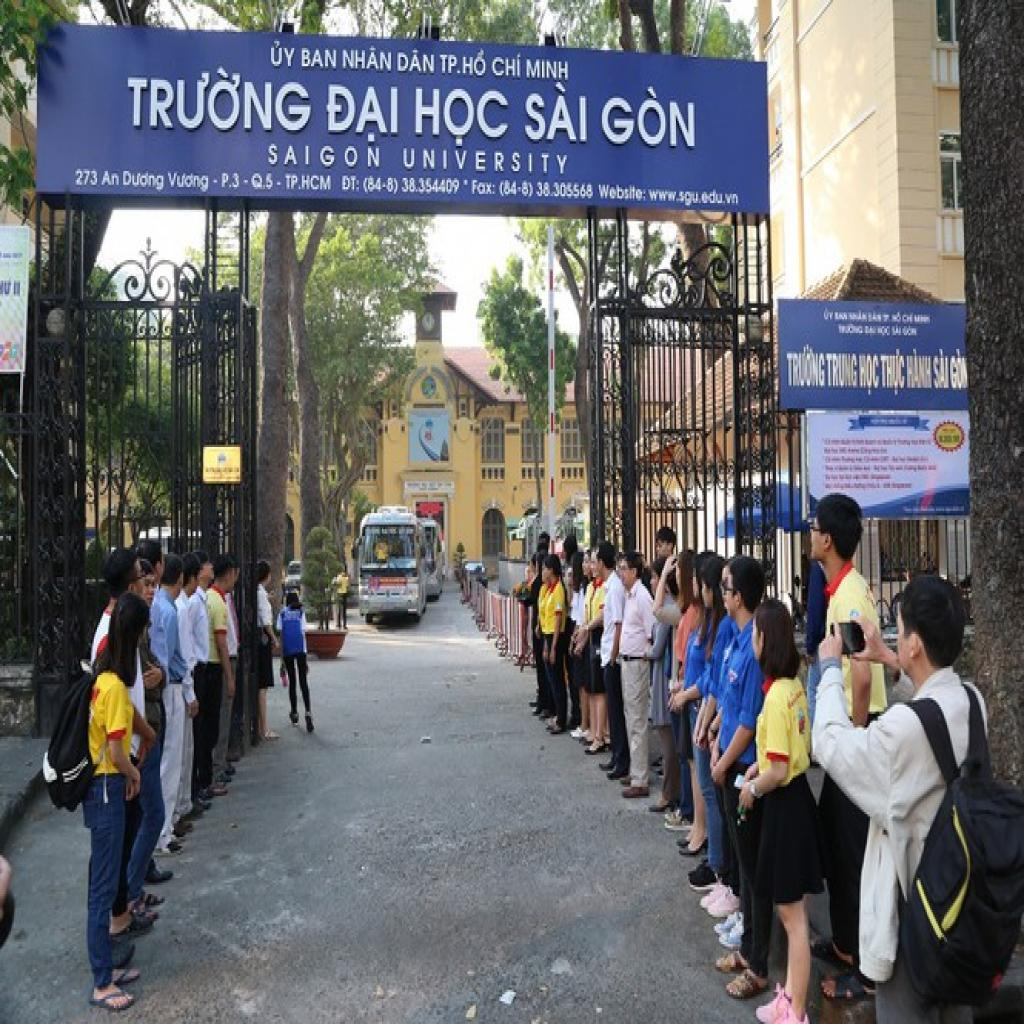text: (124, 61, 316, 137), (599, 84, 698, 150), (414, 89, 511, 153), (402, 148, 570, 178), (325, 84, 400, 146), (524, 80, 590, 146), (266, 144, 382, 171), (647, 187, 742, 210), (785, 344, 827, 392), (437, 46, 490, 80), (342, 46, 394, 75), (399, 176, 462, 198), (881, 349, 907, 399), (398, 46, 438, 78), (826, 353, 860, 390), (906, 347, 933, 392), (597, 182, 647, 206), (536, 182, 596, 200), (527, 60, 571, 84), (166, 171, 211, 194), (285, 173, 334, 194), (491, 50, 525, 80), (122, 171, 166, 194), (860, 354, 882, 399), (302, 48, 339, 73), (949, 349, 970, 392), (497, 178, 536, 201), (270, 38, 297, 70), (362, 176, 400, 198), (933, 347, 950, 392), (74, 166, 98, 190), (250, 173, 276, 194), (220, 171, 242, 194), (472, 180, 498, 198), (340, 176, 362, 194), (847, 308, 868, 326), (881, 310, 904, 326), (100, 171, 120, 189), (838, 324, 864, 337), (912, 313, 933, 326), (876, 326, 893, 342), (868, 310, 884, 326), (901, 326, 918, 340), (902, 310, 916, 326), (822, 308, 836, 321), (864, 324, 878, 337), (835, 312, 850, 324), (892, 326, 902, 340)
